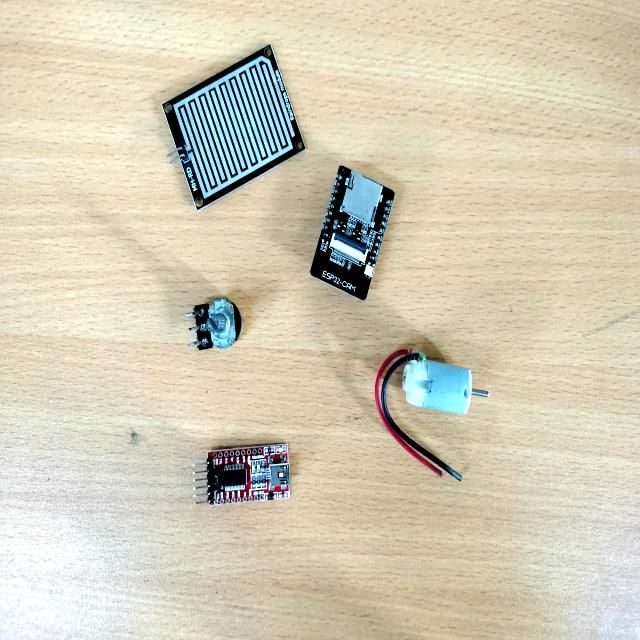DC-Motor: (367, 329, 501, 486)
ESP32-CAM: (304, 150, 400, 308)
FT-232-USB-Serial-Module: (178, 432, 300, 532)
Raindrops-Module: (154, 35, 307, 216)
Taper-Potentiometer: (179, 285, 252, 371)
